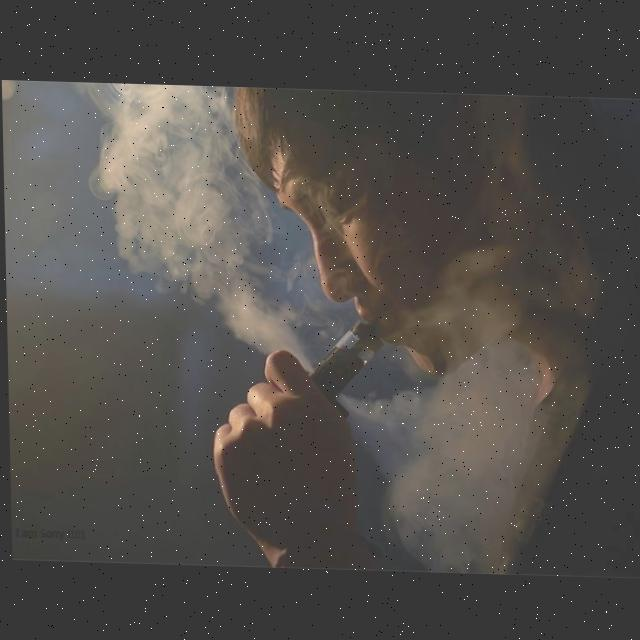vape: (300, 314, 380, 403)
